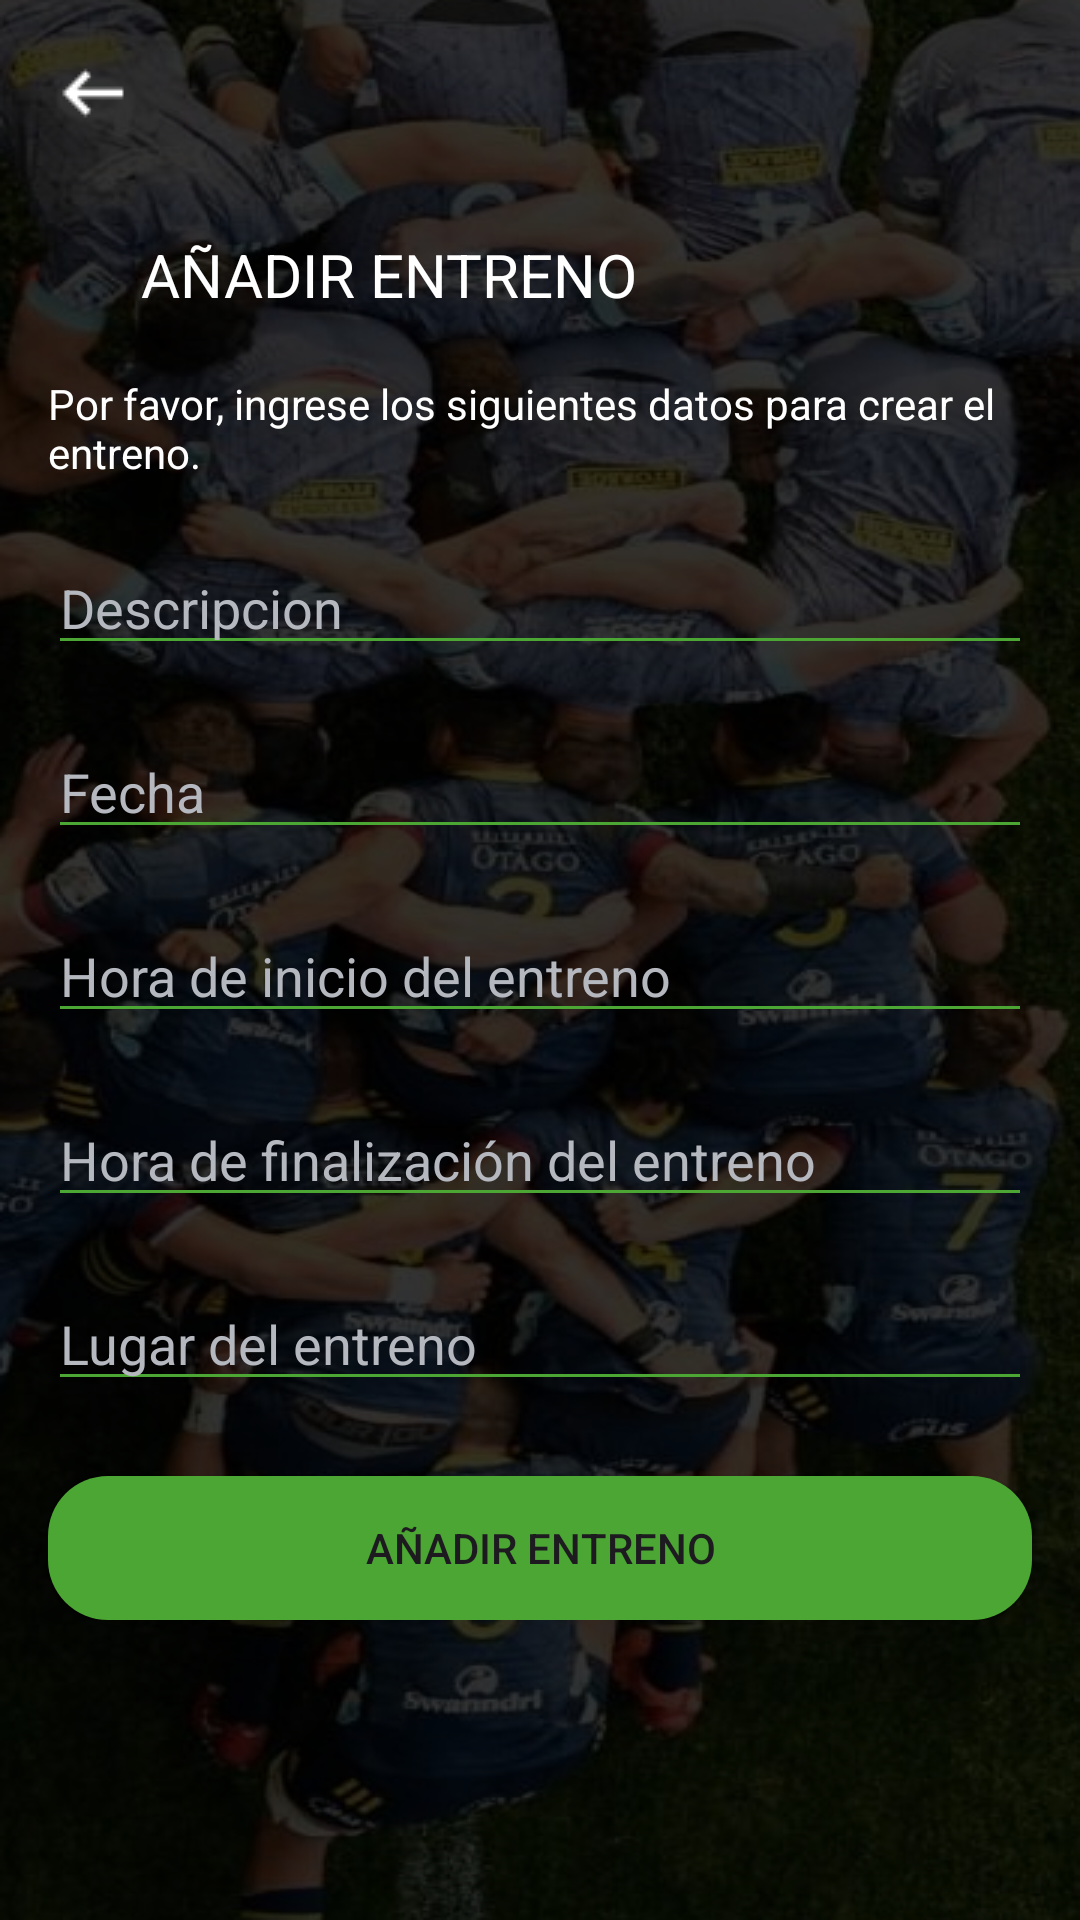

Locate icon controls on the screen. Image size 1080px x 1920px, boxes as (x1, y1, x2, y2).
short left: (62, 69, 124, 117)
